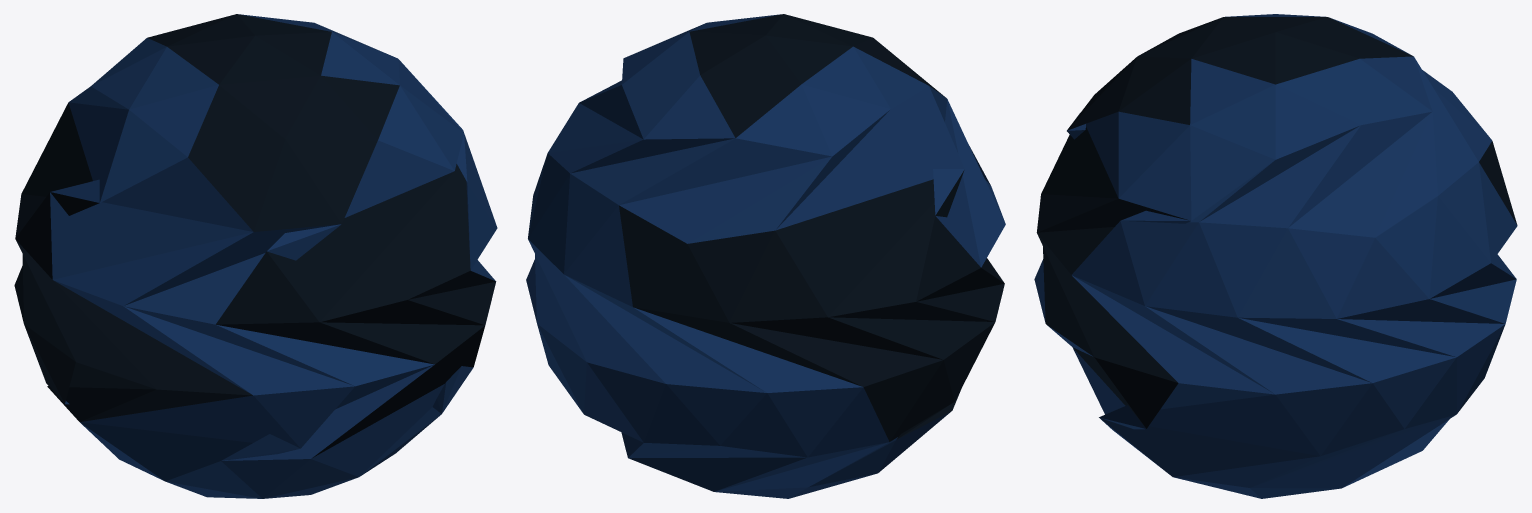
File: Neptune_1240.obj
3 views of the same model, side by side, from view 1: azimuth 30°, elevation 25°; view 2: azimuth 150°, elevation 25°; view 3: azimuth 270°, elevation 25° (orthographic).
Parts seen in each view (by area): view 1: GeoSphere001; view 2: GeoSphere001; view 3: GeoSphere001.
Boxes of the visible parts, x1=… form: GeoSphere001: x1=14, y1=14, x2=497, y2=498; GeoSphere001: x1=526, y1=14, x2=1005, y2=498; GeoSphere001: x1=1034, y1=14, x2=1517, y2=498.
Bounding box in the file's own units: 59.57 × 60.43 × 59.5.
